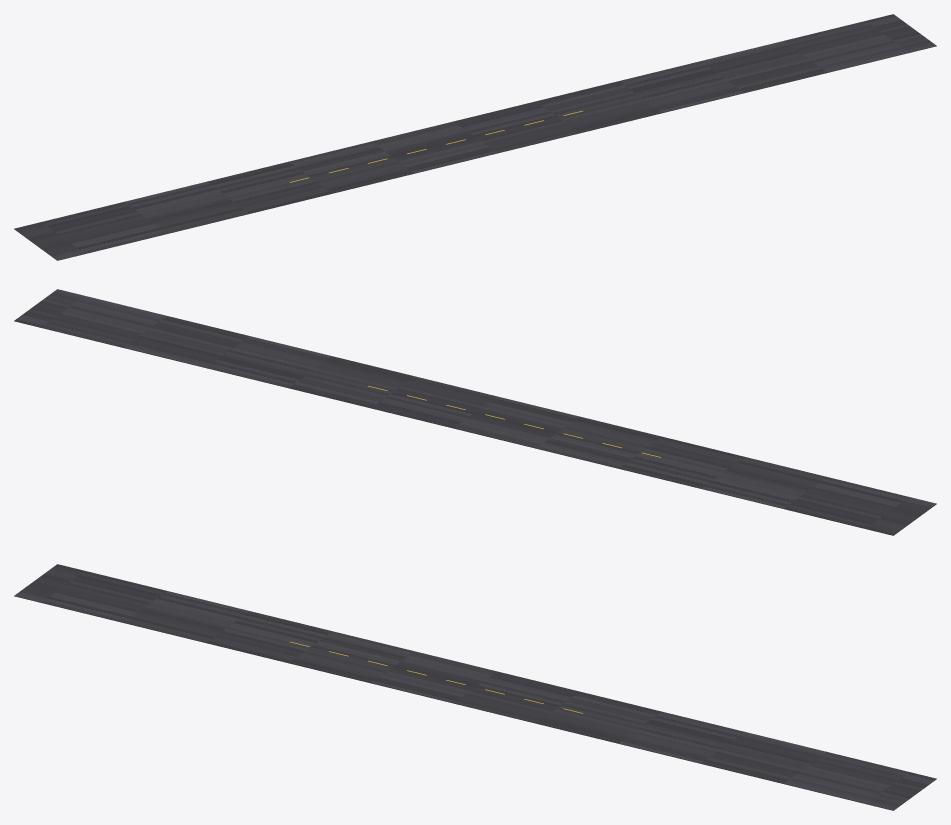
File: structure.glb
3 views of the same model, one above another, from view 1: azimuth 30°, elevation 25°; view 2: azimuth 150°, elevation 25°; view 3: azimuth 330°, elevation 25° (orthographic).
Parts seen in each view (by area): view 1: Box1; view 2: Box1; view 3: Box1.
Part boxes in pixels (x1,y1,x2,y2): Box1: [14, 14, 936, 260]; Box1: [14, 289, 936, 535]; Box1: [14, 564, 936, 810].
Size of the model in its own units: 90 by 0.047 by 7.7.
Materials: 2 (1 with a texture image).
